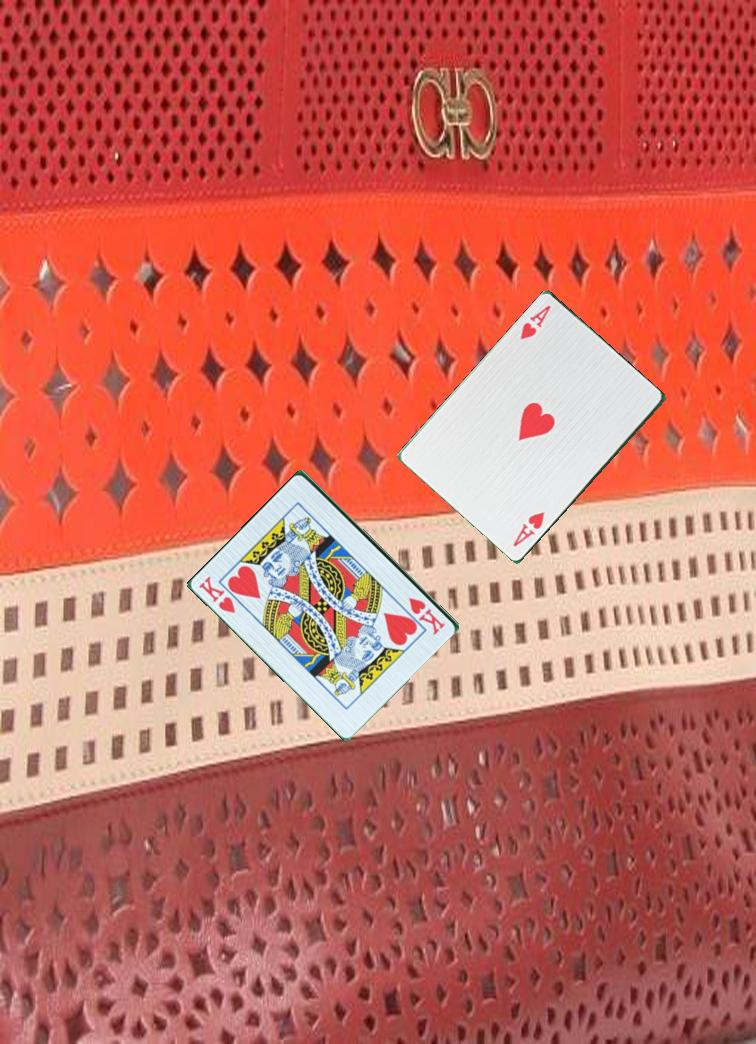ah: (514, 301, 554, 342), (509, 508, 548, 550)
kh: (404, 593, 449, 636), (196, 572, 239, 616)
